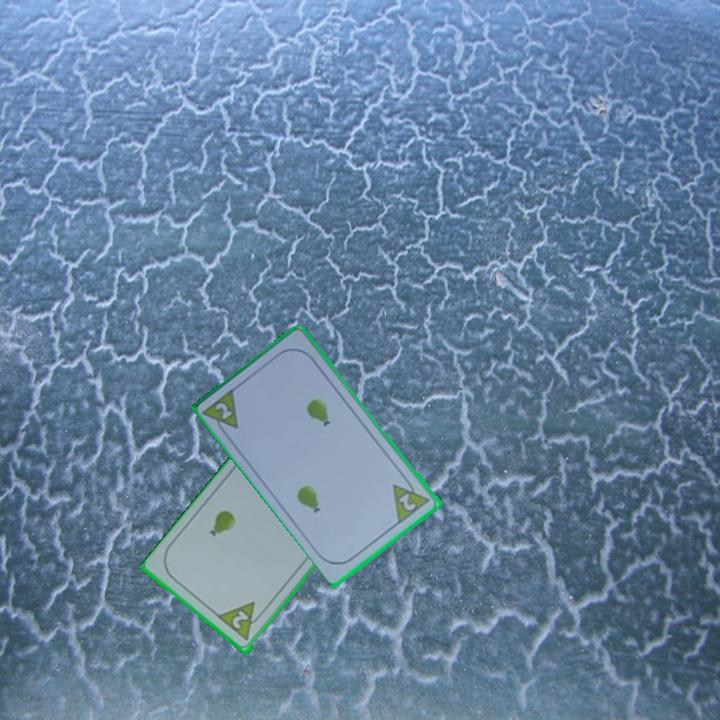2p: (389, 473, 434, 526), (228, 607, 252, 632), (212, 399, 236, 423)
